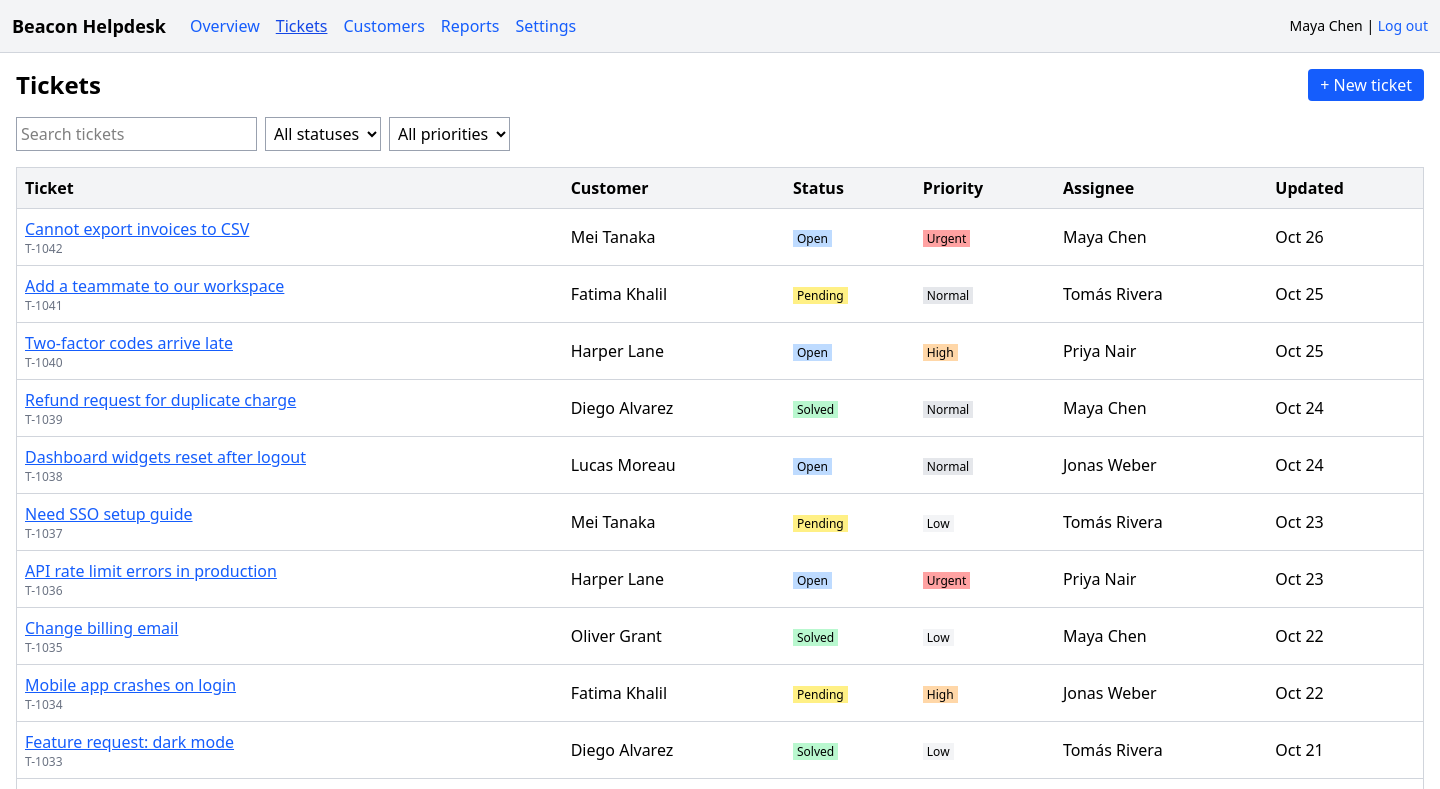
tickets › lists tickets and searches by subject
Expected: the link "Cannot export invoices to CSV" is shown, [25,218,249,240]
Type "webhook" into the search field labelled "Search tickets" at {"x": 136, "y": 134}, box [16,117,257,151]
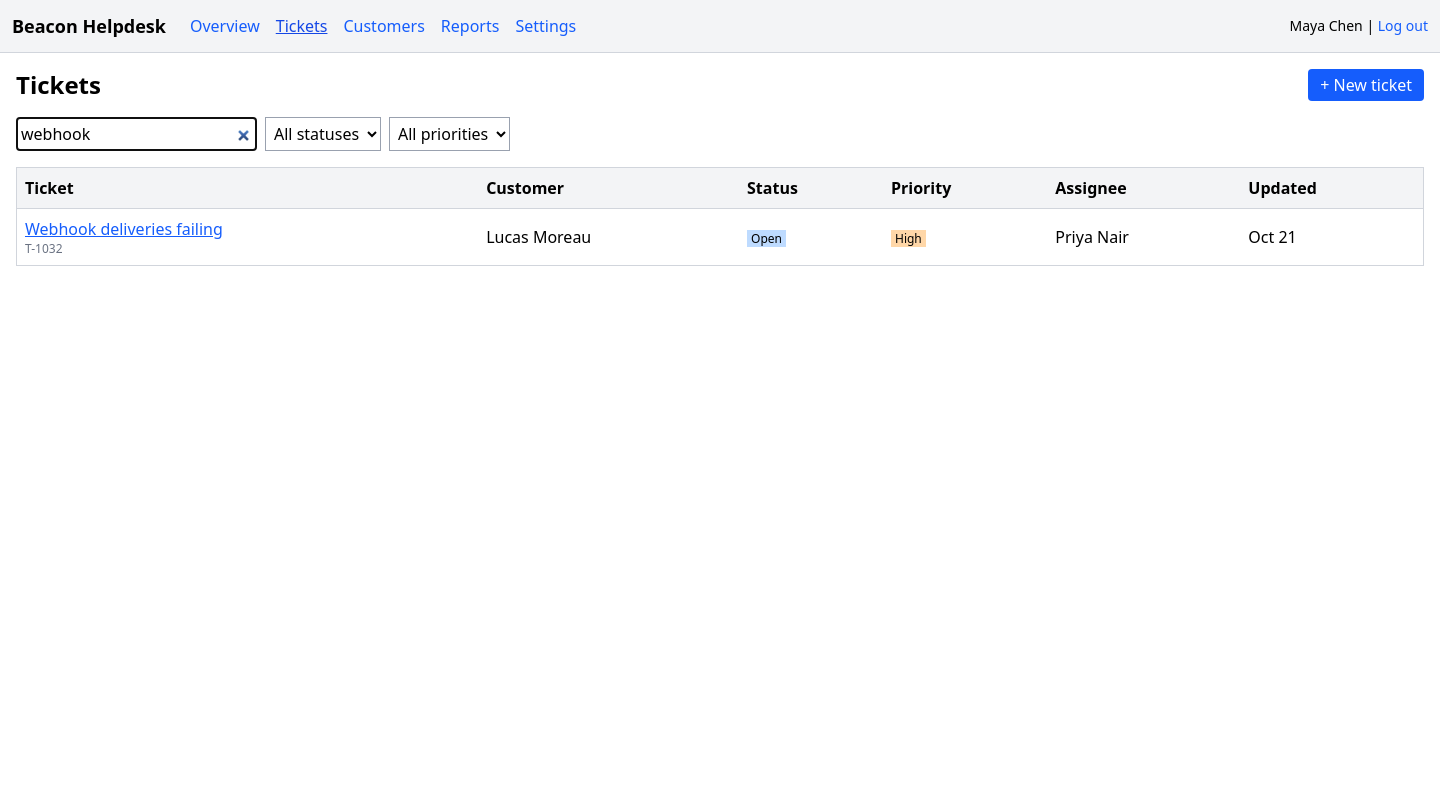
Expected: the link "Webhook deliveries failing" is shown, [25,218,223,240]
Result: the link "Cannot export invoices to CSV" is gone
